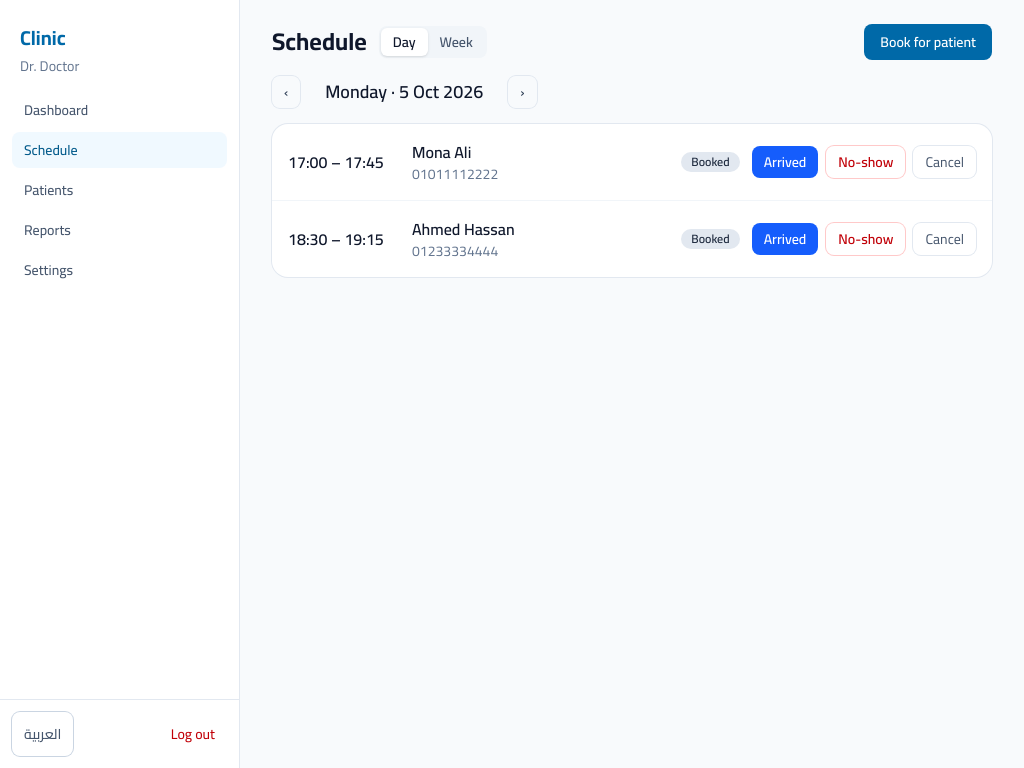
Test: Schedule: day view › asks before marking a no-show or cancelling
Click the button "No-show" in the row of "17:00" at (866, 162), box [826,146,905,178]
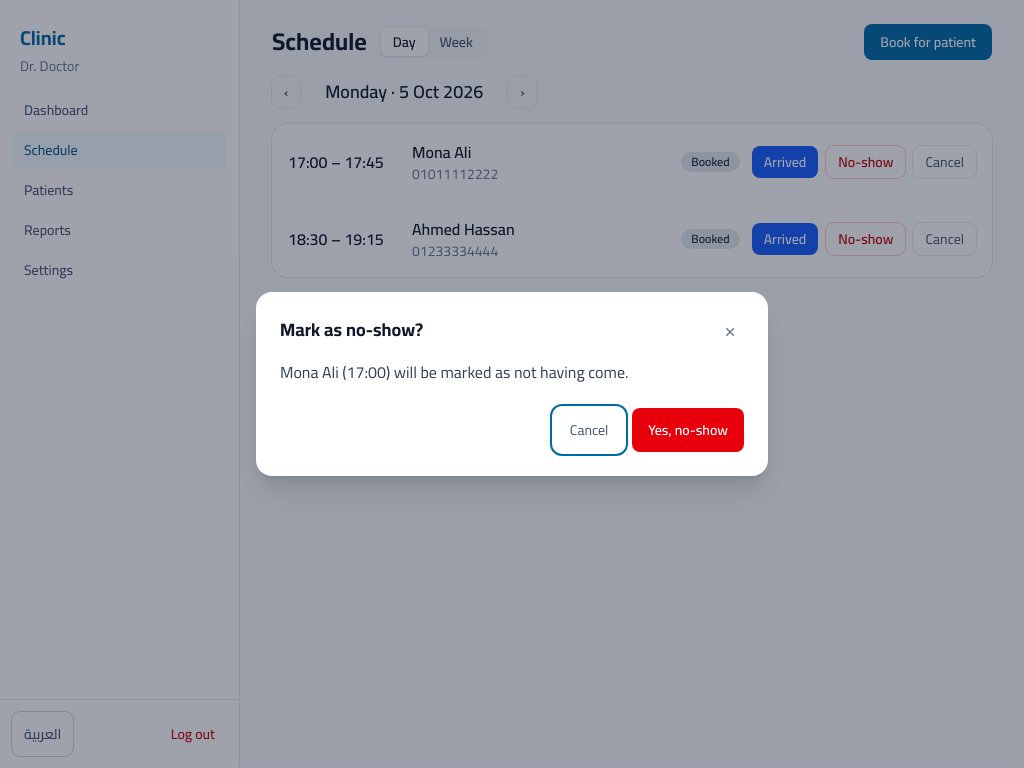
expect the dialog "Mark as no-show?" shows "Mona Ali (17:00)": met, box [280,357,628,387]
Click the button "Yes, no-show" at (688, 430), box [632,408,744,452]
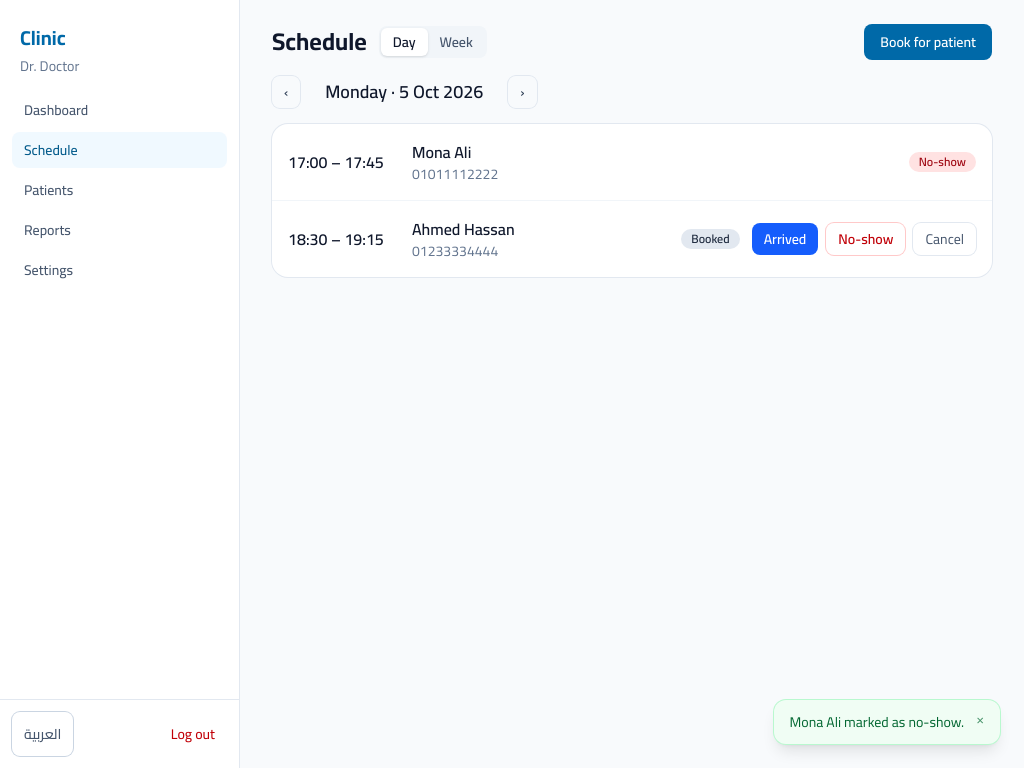
expect the text "No-show" has attribute data-status="no_show": met, box [909,152,976,172]
Click the button "Cancel" at (945, 239), box [914,223,976,255]
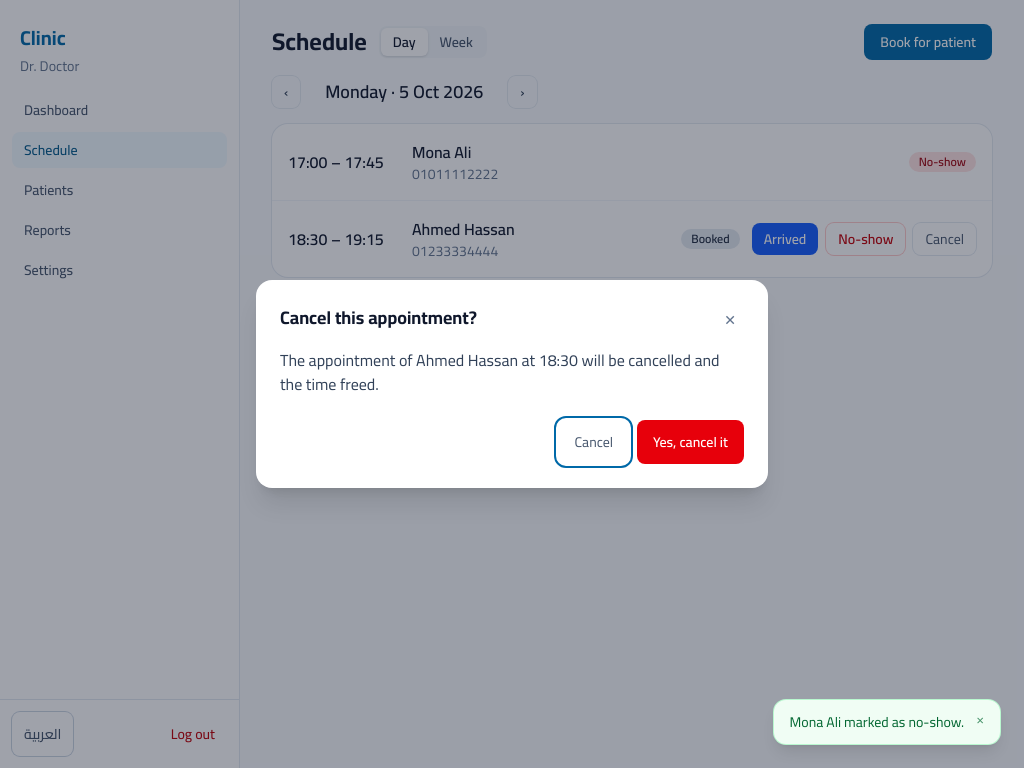
Click the button "Cancel" at (594, 442), box [558,420,629,464]
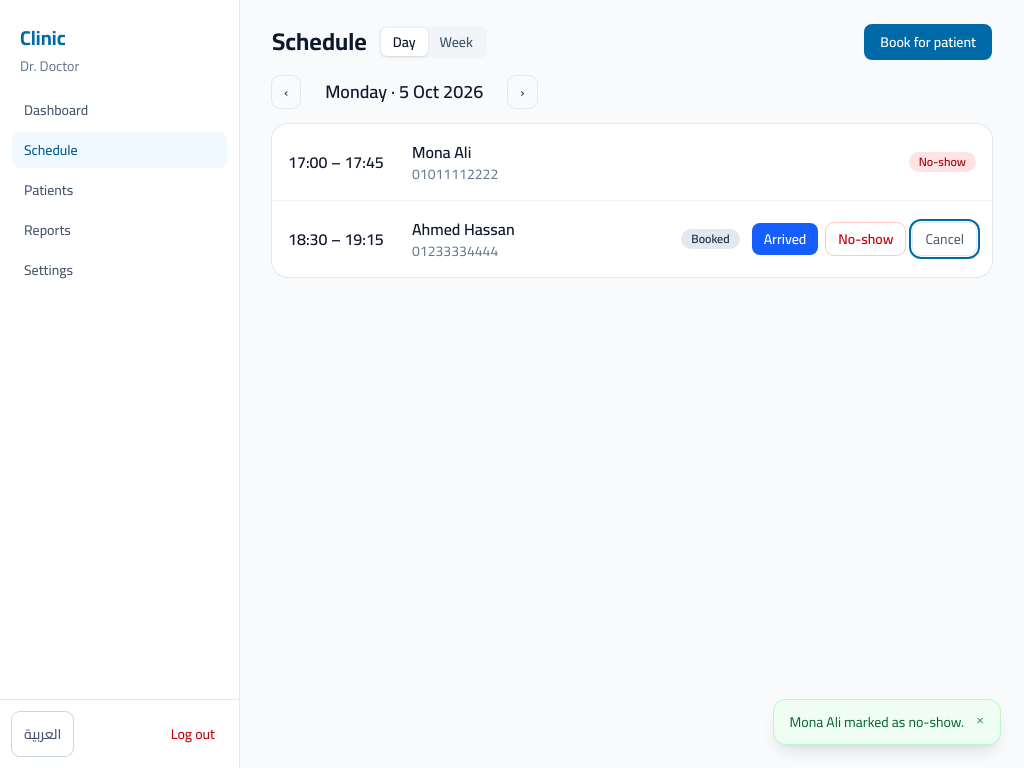
Click the button "Cancel" at (945, 239), box [914,223,976,255]
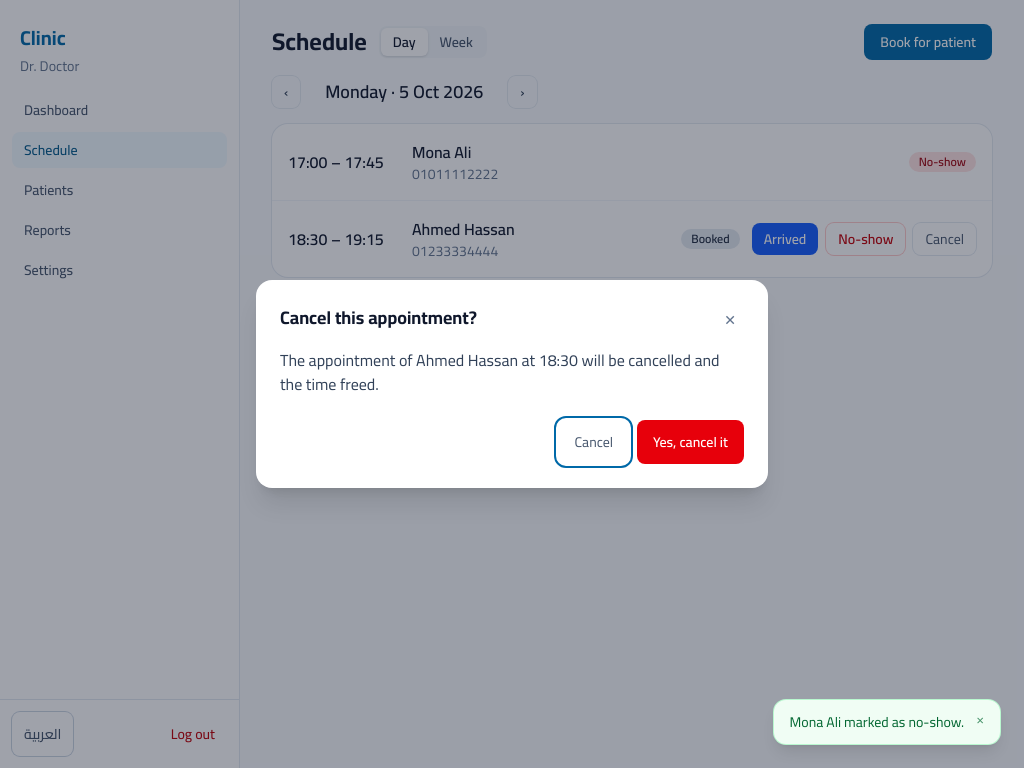
Click the button "Yes, cancel it" at (690, 442), box [637,420,744,464]
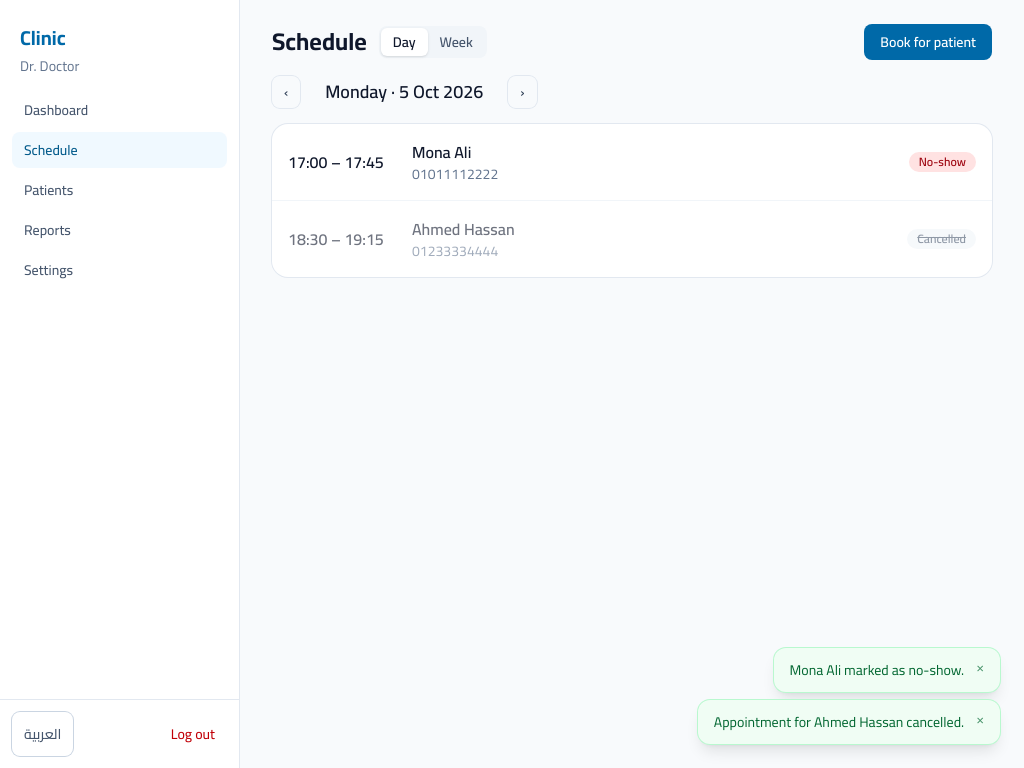
expect the text "Cancelled" is shown: met, box [907,229,976,249]
